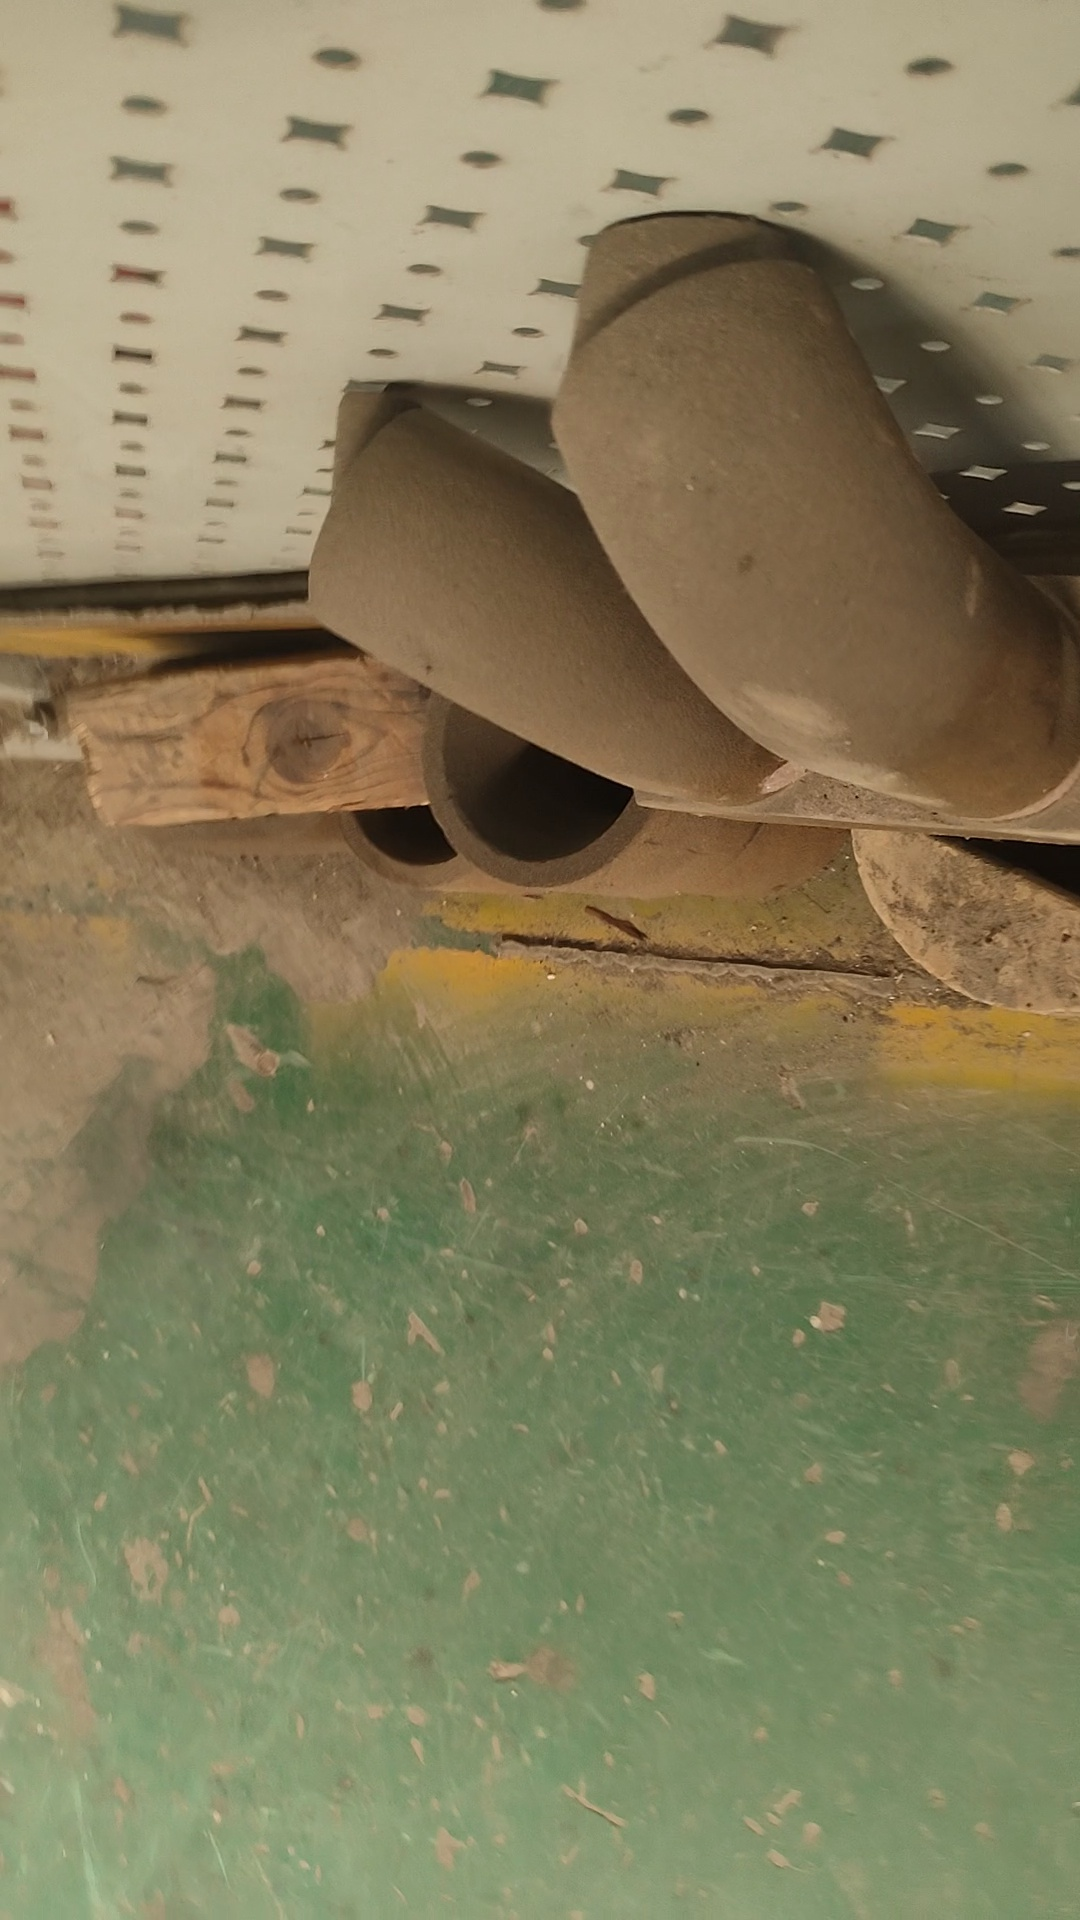pouring hole: (444, 679, 638, 861), (347, 729, 471, 866)
